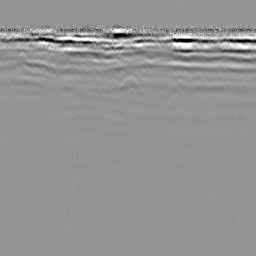cavity: (119, 71, 143, 91)
